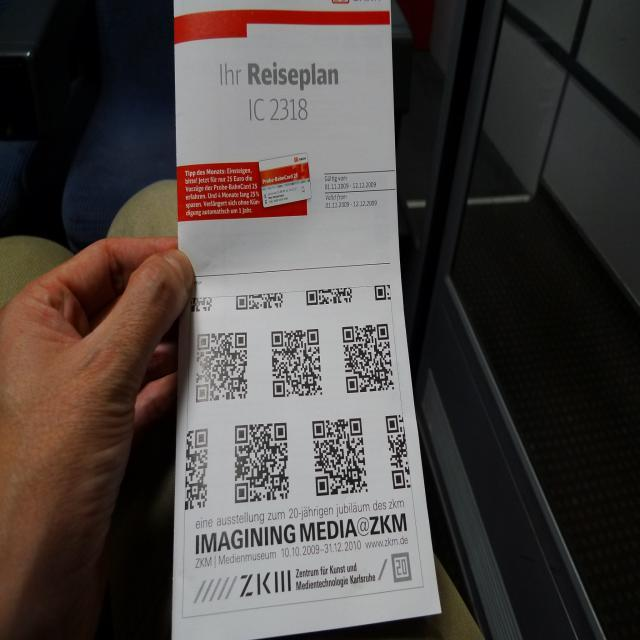qrcode: (313, 419, 369, 497), (236, 424, 290, 504), (343, 325, 395, 394), (197, 334, 248, 404), (272, 330, 323, 398), (387, 415, 413, 490), (186, 429, 209, 511), (307, 288, 353, 306), (237, 294, 284, 310), (192, 299, 212, 313), (376, 286, 392, 301)
